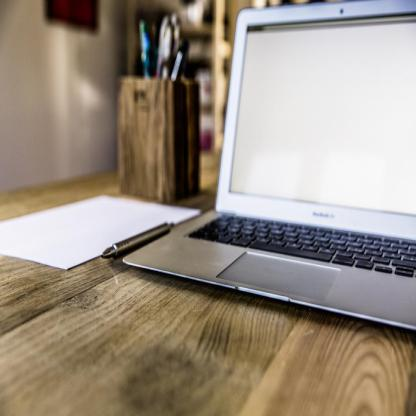board: (121, 0, 416, 334)
